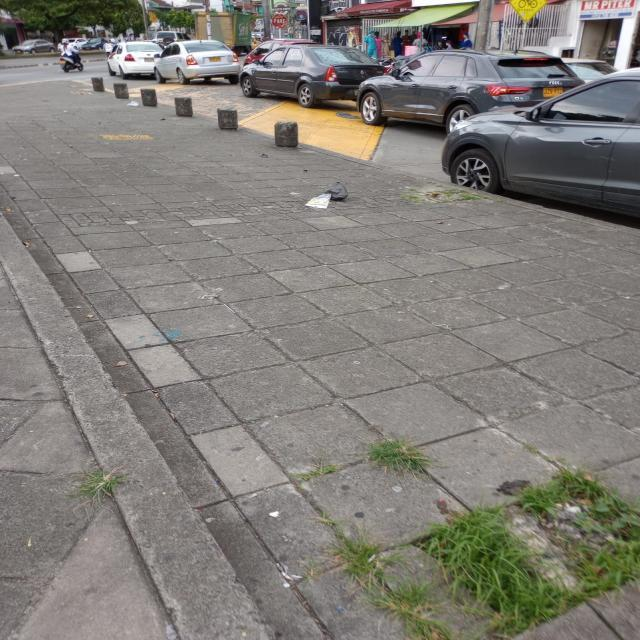Trashbag: (322, 181, 351, 206)
